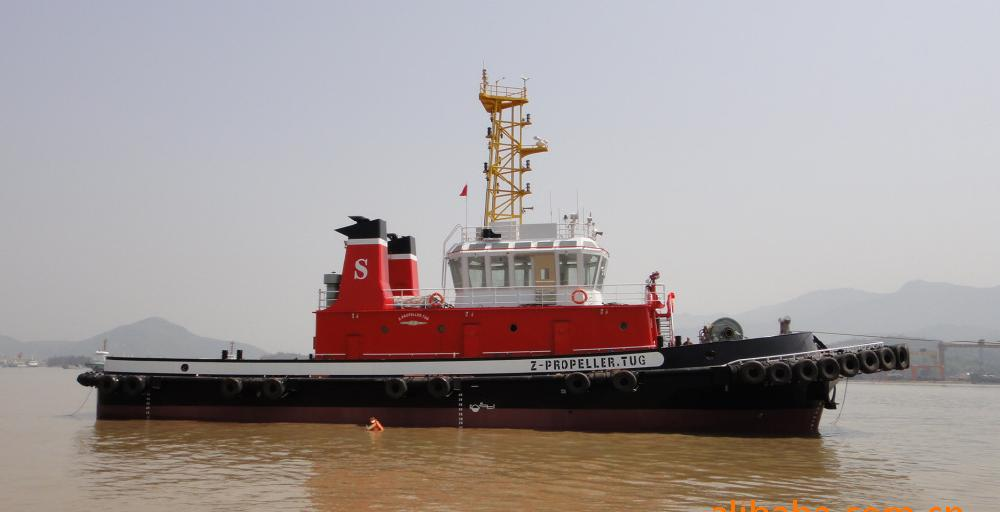otherboat: (66, 75, 930, 439)
